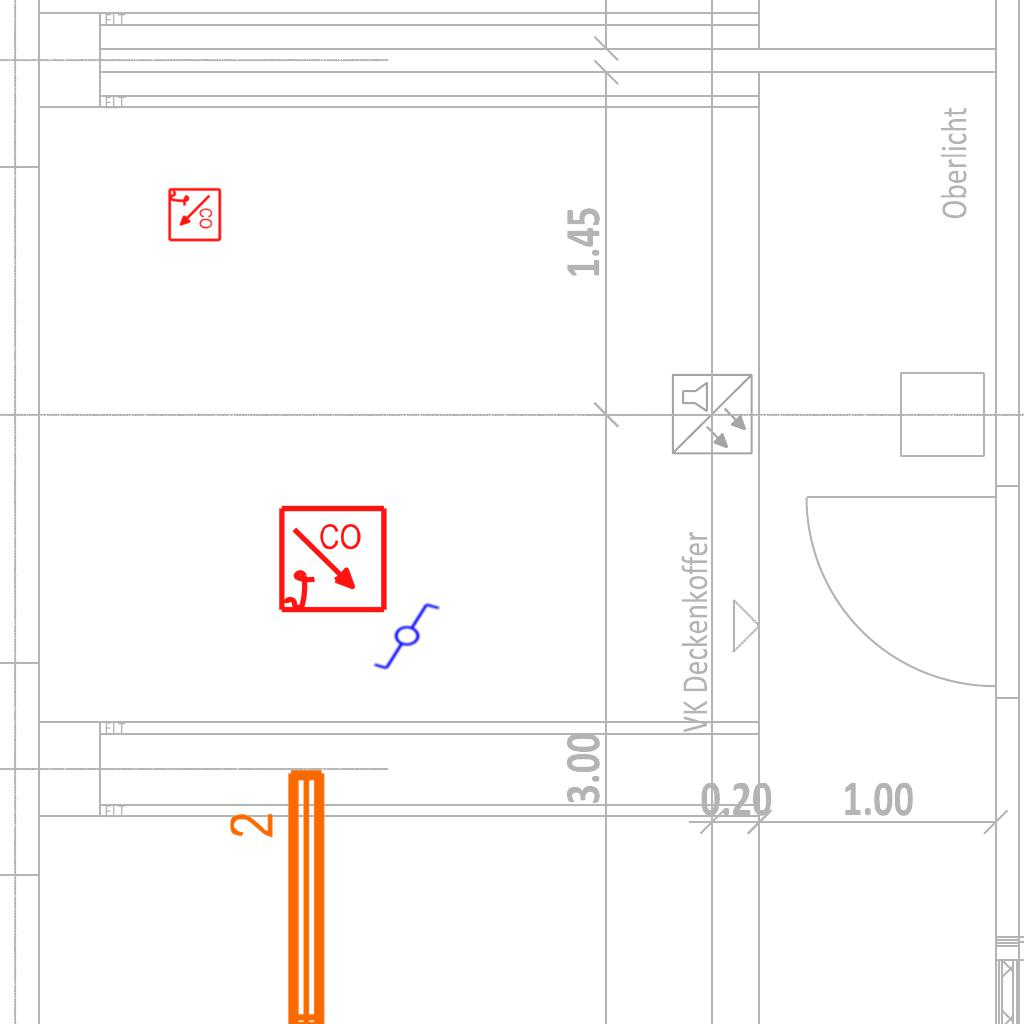Ambulanz_Pendelleuchte_LED: (225, 761, 337, 1024)
ROA_Rauchmelder_optisch_mit_Signalgeber_(Sockelsirene): (277, 504, 390, 617), (166, 187, 222, 243)
Wechselschalter: (372, 601, 450, 673)
